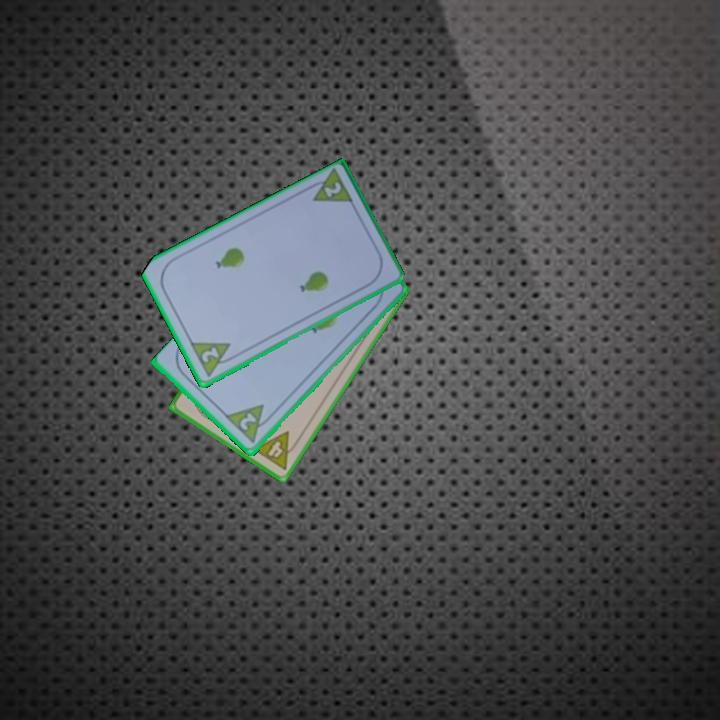2p: (223, 401, 276, 447), (186, 339, 239, 380), (320, 178, 344, 201)
4p: (249, 428, 303, 473)
